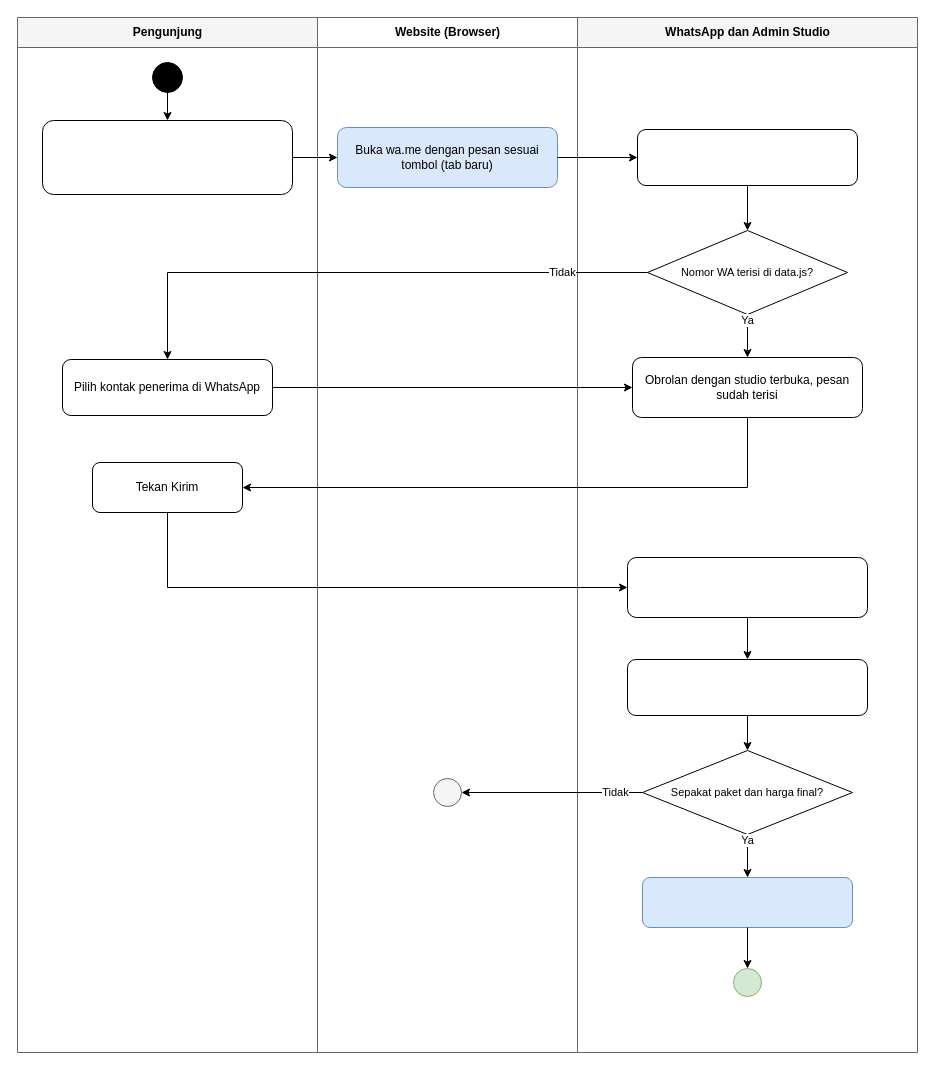
Image size: 935x1070. Some labels were removed from this diagram. Here are the shapes that lost their labels. From the top down, the centre of each, then its label:
At [167,157]: "Klik tombol WhatsApp (Konsultasi gratis, ikon chat paket, atau Kirim estimasi)".
At [747,157]: "WhatsApp memuat halaman atau obrolan".
At [747,587]: "Admin menerima pesan (paket, tambahan, estimasi harga)".
At [747,687]: "Admin membalas dan membahas kebutuhan".
At [747,902]: "Konfirmasi pesanan".
